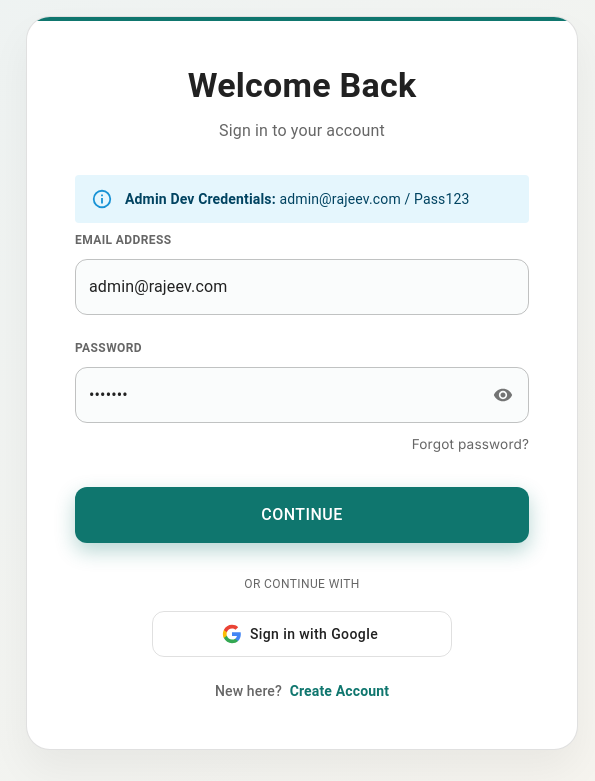
Test case: Login UI Test Cases › Password Visibility Toggle › TC-UI-009: should toggle password visibility when icon is clicked
The image size is (595, 781).
Click the 1st button: point(503, 395) x1=488 y1=380 x2=518 y2=410
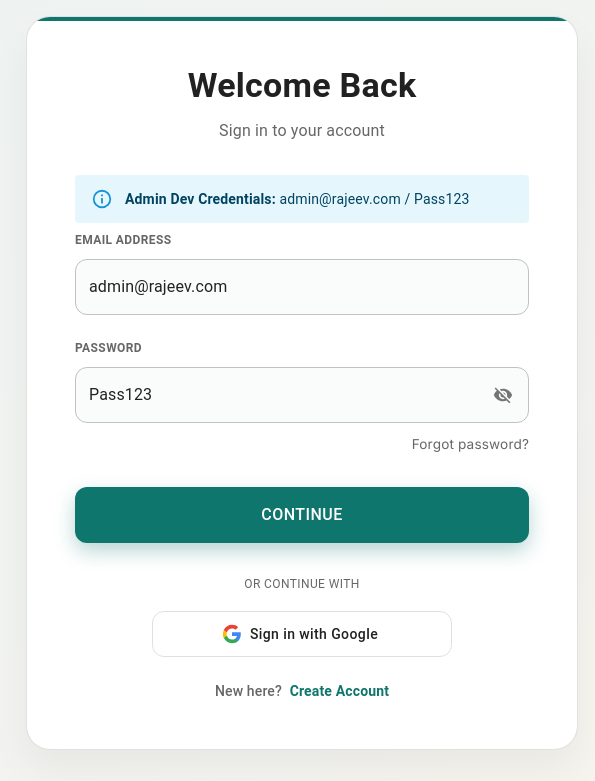
Check: the 2nd field with placeholder "••••••••" shows its text, box x1=75 y1=367 x2=480 y2=423
Click the 1st button: point(503, 395) x1=488 y1=380 x2=518 y2=410
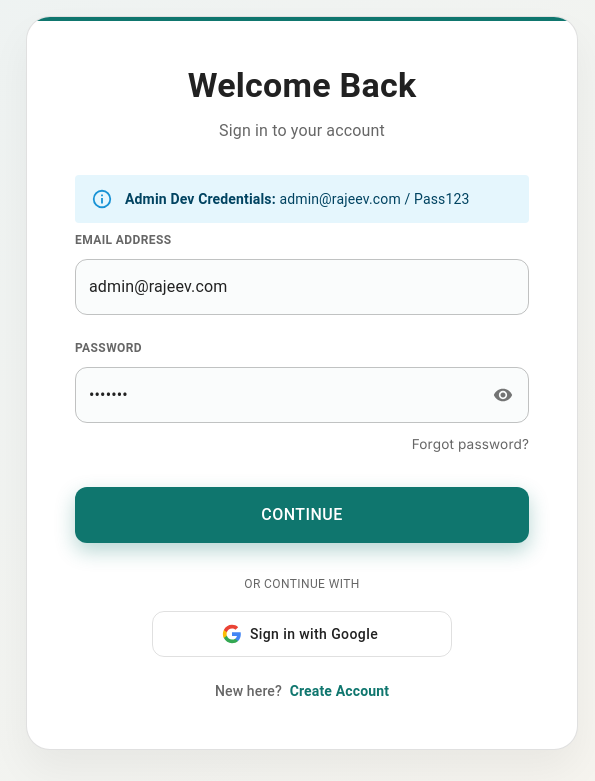
Check: the password field with placeholder "••••••••" hides its text, box x1=75 y1=367 x2=480 y2=423
